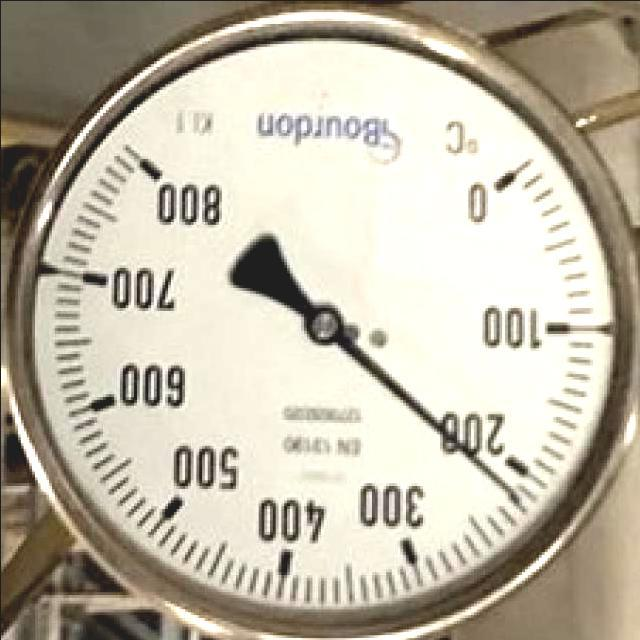Needle_Tip: (468, 455, 539, 523)
Needle_base: (294, 292, 356, 355)
max_value: (144, 173, 236, 232)
min_value: (435, 168, 510, 238)
